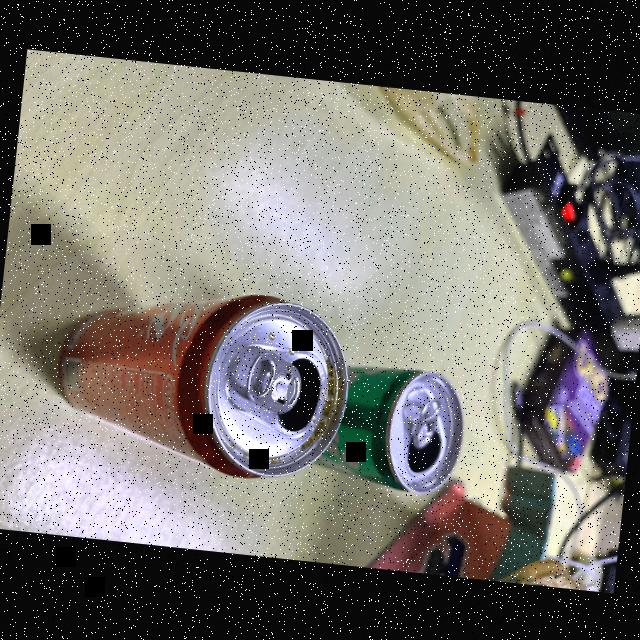can: (39, 273, 368, 489), (308, 348, 477, 500)
